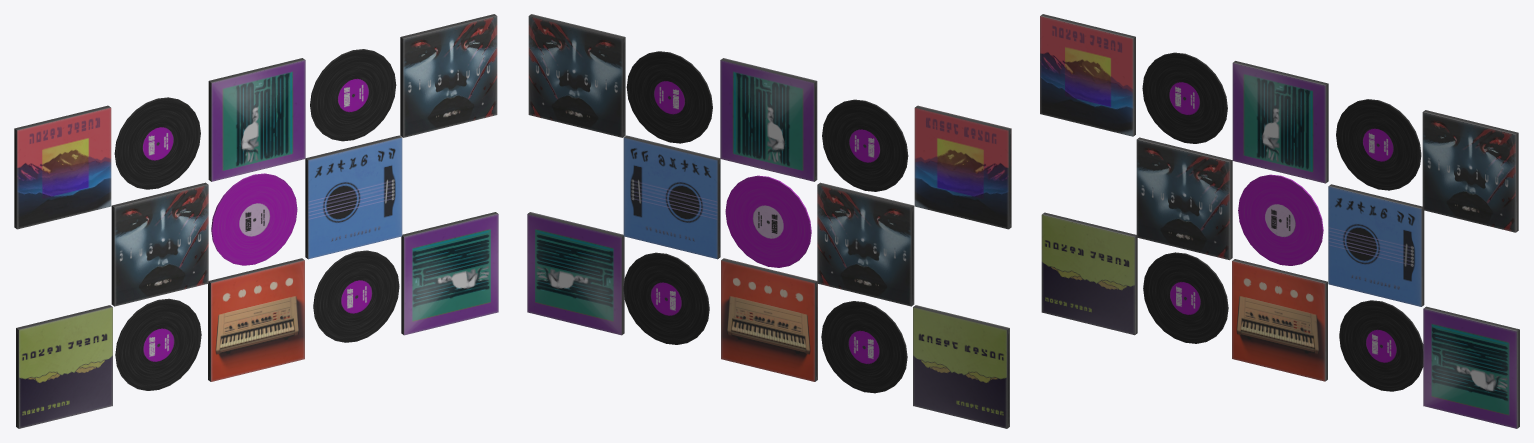
Rendered from P_VinylRecord_002_S1_M01.obj.
The picture shows the model from 3 angles, left to right: view 1: azimuth 30°, elevation 25°; view 2: azimuth 150°, elevation 25°; view 3: azimuth 330°, elevation 25°; orthographic projection.
Size of the model in its own units: 2.82 by 1.67 by 0.0344.
Materials: 13 (13 with a texture image).
